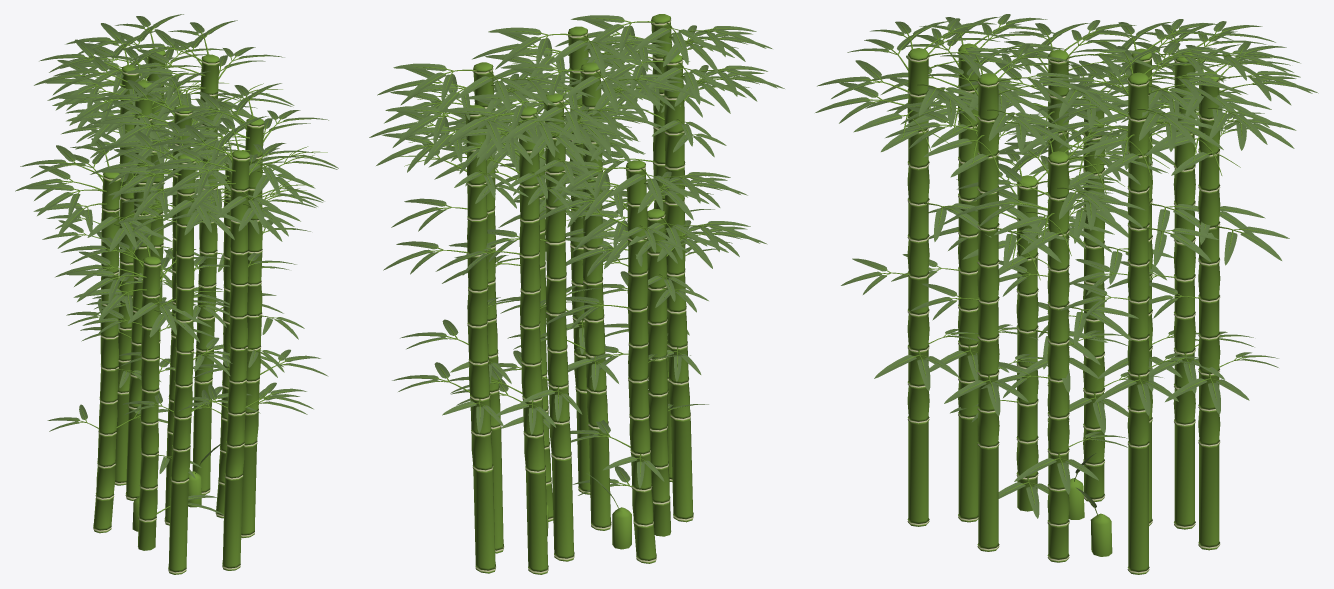
The model's file is BambooThick.fbx.
3 views of the same model, side by side, from view 1: azimuth 30°, elevation 25°; view 2: azimuth 150°, elevation 25°; view 3: azimuth 270°, elevation 25° (orthographic). The views are drawn at different scales.
Parts seen in each view (by area): view 1: Bamboo.001; view 2: Bamboo.001; view 3: Bamboo.001.
Part boxes in pixels (bbox=[...]): Bamboo.001: bbox=[15, 14, 338, 574]; Bamboo.001: bbox=[369, 14, 784, 574]; Bamboo.001: bbox=[815, 14, 1318, 574].
Size of the model in its own units: 3720 by 5654 by 5052.
